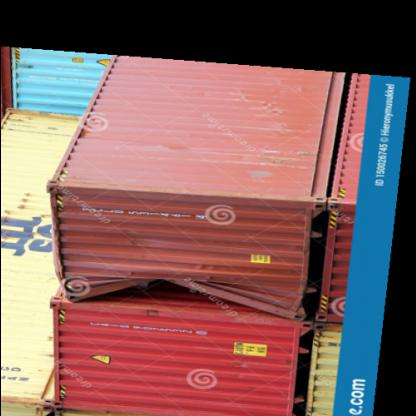Damage: (102, 264, 260, 320)
